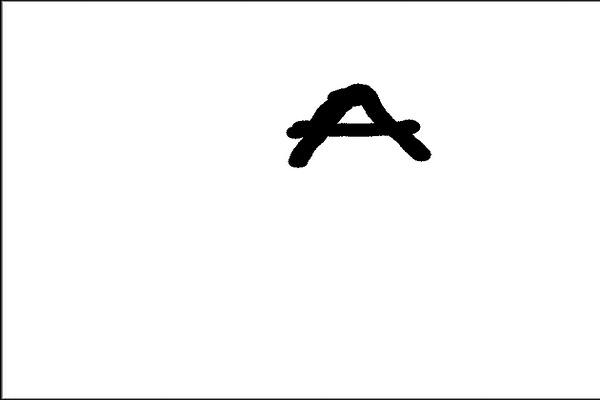A: (276, 77, 434, 170)
